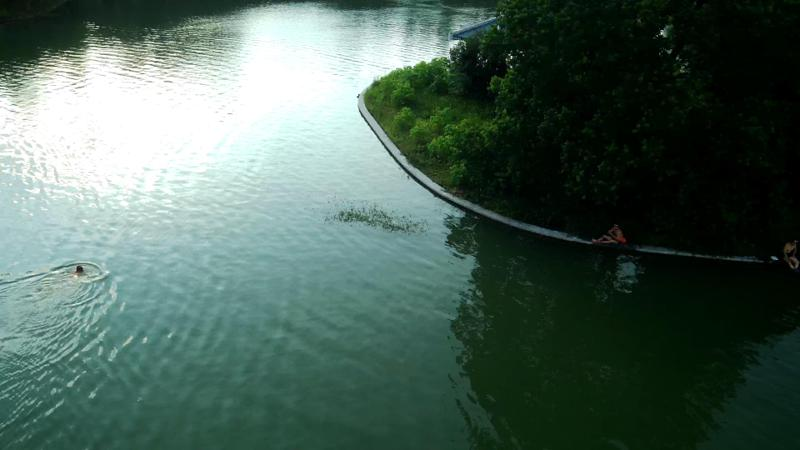sus_swimmers: (591, 222, 624, 244), (783, 238, 800, 270)
swimmers: (71, 264, 87, 280)
